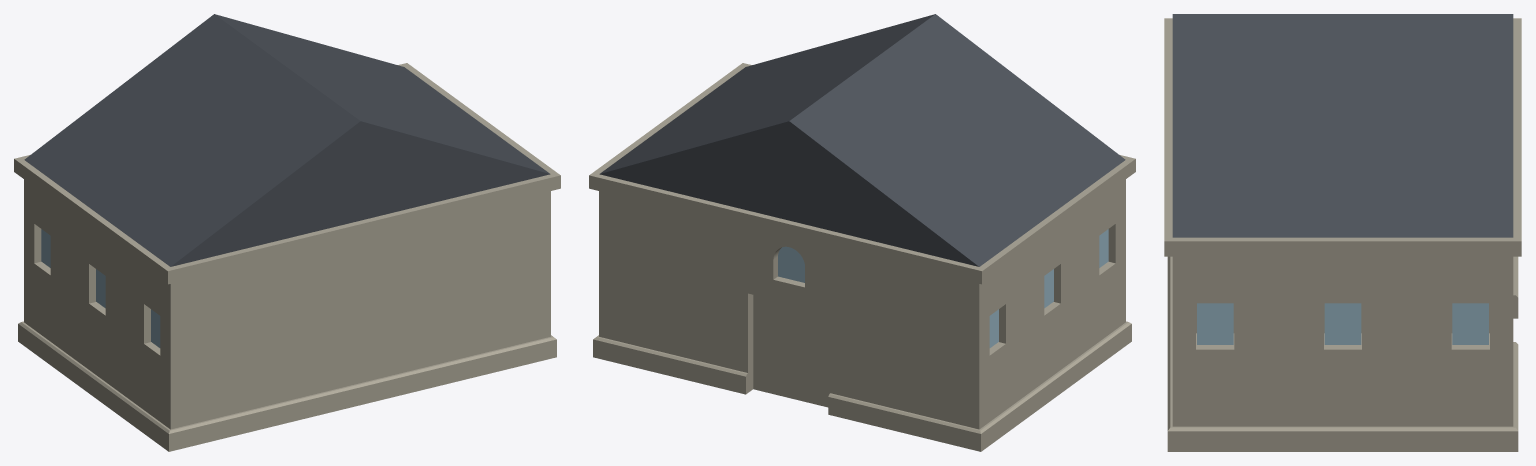
The picture shows the model from 3 angles, left to right: view 1: azimuth 30°, elevation 25°; view 2: azimuth 150°, elevation 25°; view 3: azimuth 270°, elevation 25°; orthographic projection. The views are drawn at different scales.
Parts seen in each view (by area): view 1: body_stone, roof_slate, trim_stone; view 2: body_stone, roof_slate, trim_stone, glass_glass; view 3: roof_slate, body_stone, trim_stone, glass_glass (×3).
Boxes of the visible parts, x1,y1,x2,y2 form: body_stone: (24, 179, 550, 429); roof_slate: (24, 14, 550, 266); trim_stone: (14, 63, 560, 451); body_stone: (599, 179, 1125, 429); roof_slate: (599, 14, 1125, 266); trim_stone: (589, 63, 1135, 451); glass_glass: (778, 246, 804, 282); roof_slate: (1172, 14, 1513, 237); body_stone: (1172, 256, 1513, 426); trim_stone: (1164, 18, 1521, 451); glass_glass (×3): (1197, 303, 1488, 344).
Size of what is drawn, in the model's own units: 12.4 by 8.5 by 8.4.
